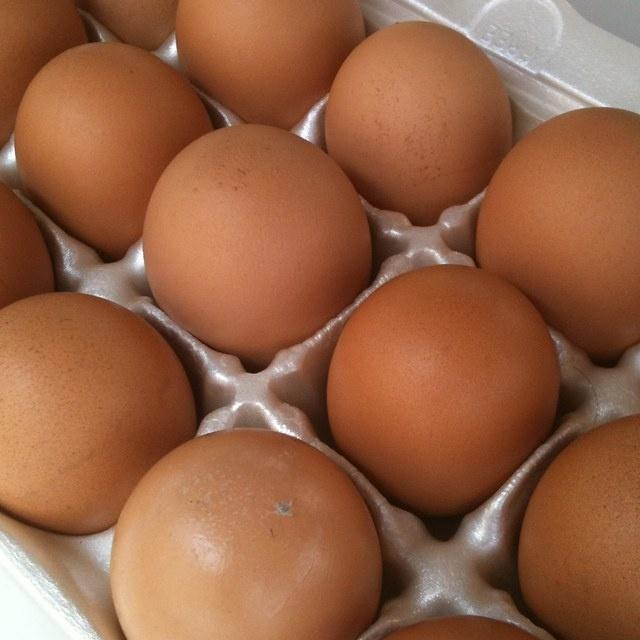egg: (325, 263, 560, 517), (109, 427, 382, 640), (141, 122, 372, 367), (0, 290, 196, 535), (13, 40, 213, 259), (474, 105, 640, 361), (324, 19, 513, 225), (516, 409, 640, 640), (174, 0, 365, 128), (0, 0, 87, 157), (0, 153, 55, 392), (60, 0, 222, 50)
